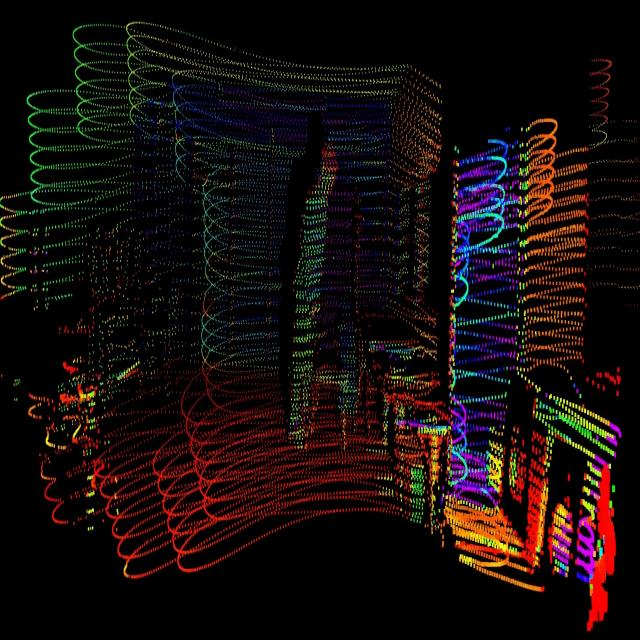human: (288, 140, 337, 453)
